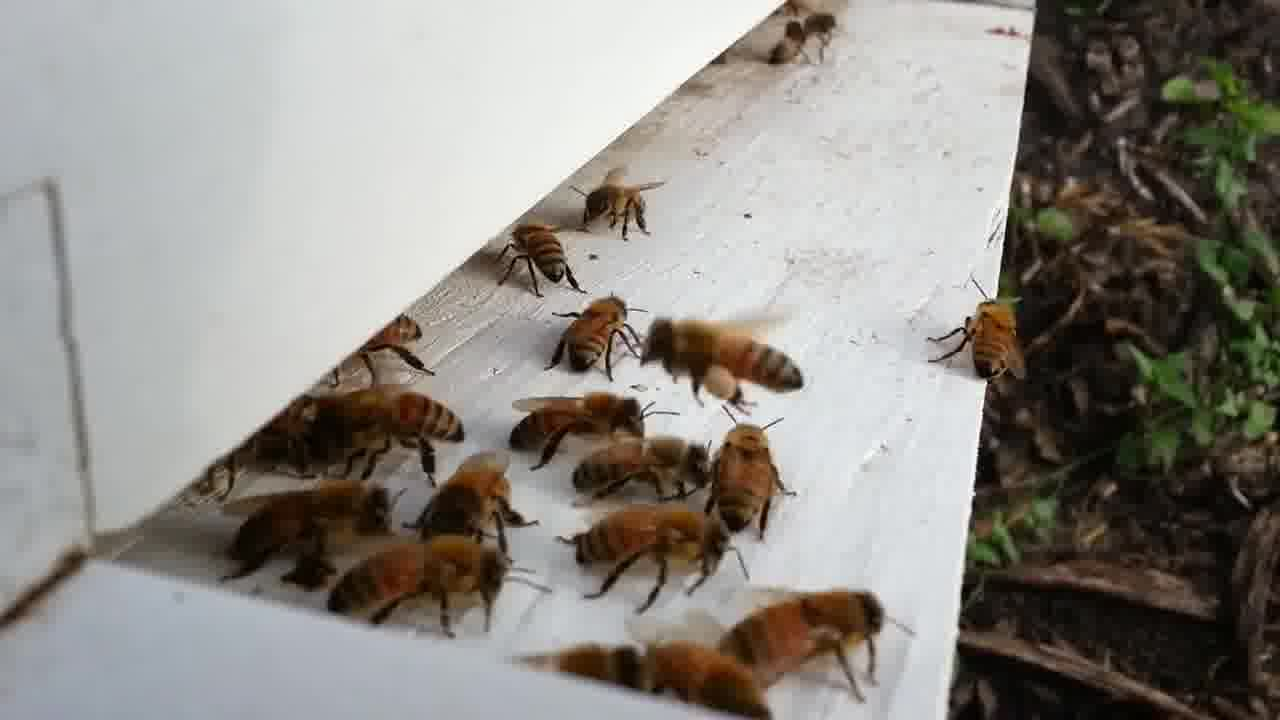pollen: (623, 305, 809, 416)
